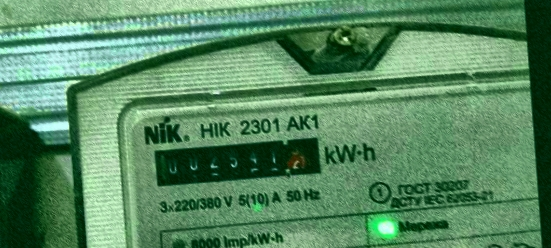0: (165, 152, 179, 174), (186, 149, 199, 171)
1: (266, 141, 279, 165)
2: (206, 146, 221, 169)
4: (246, 143, 259, 164)
5: (226, 145, 240, 169)
6: (289, 155, 301, 168)
screen: (141, 125, 333, 193)
